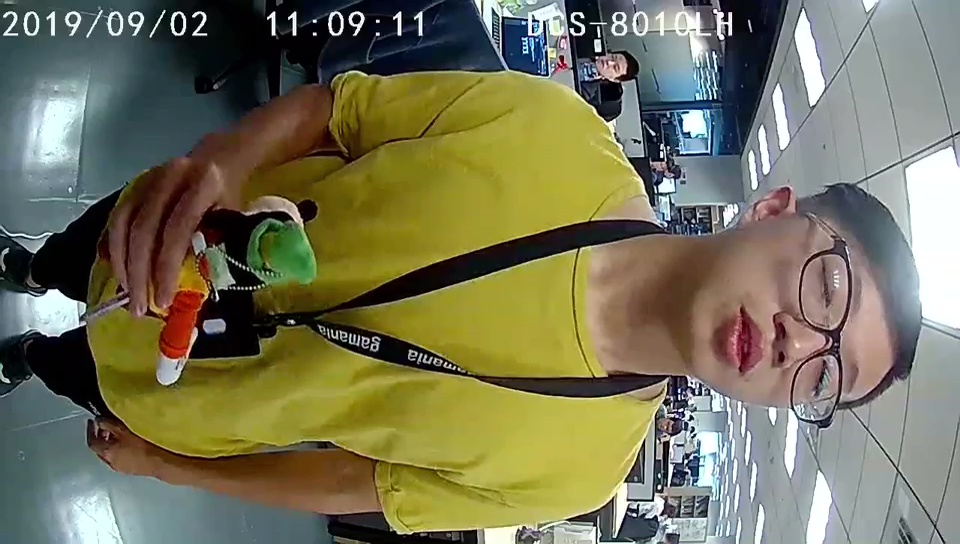goofy: (157, 203, 316, 386)
